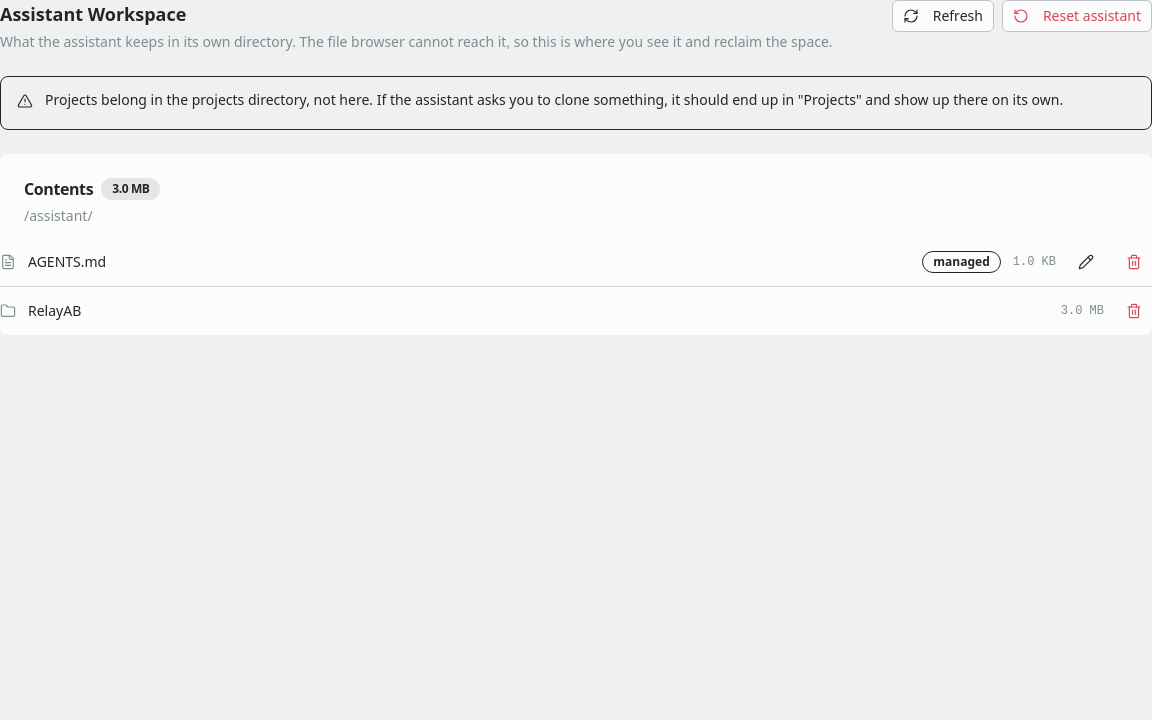
Test: AssistantWorkspaceSettings › can cancel the reset
The width and height of the screenshot is (1152, 720).
Click the button "Reset assistant" at (1077, 16), box [1002,0,1151,32]
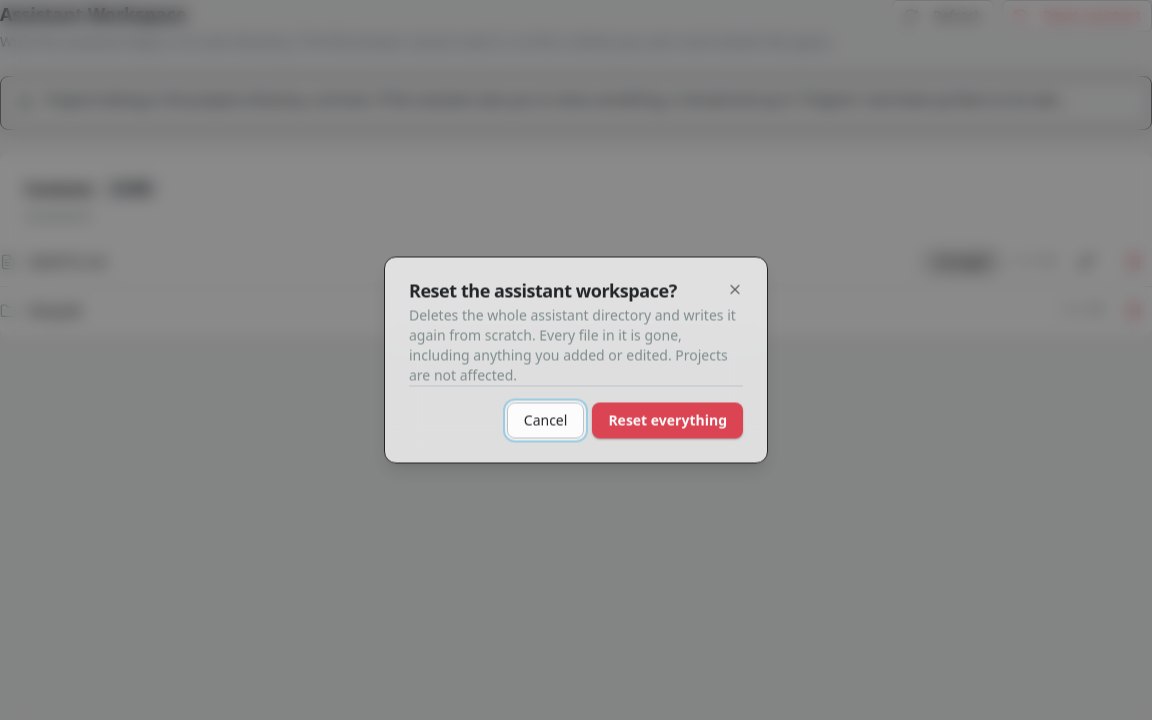
Click the button "Cancel" at (546, 420), box [507,402,584,438]
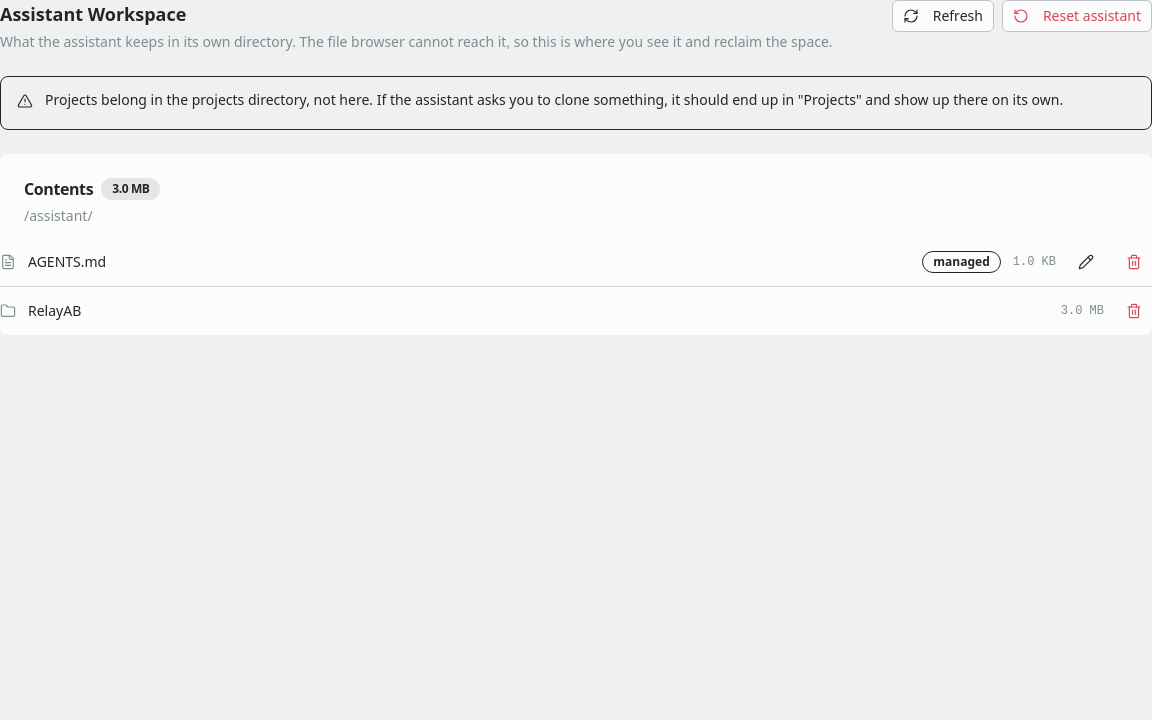
expect the button "Reset everything" is gone: met
